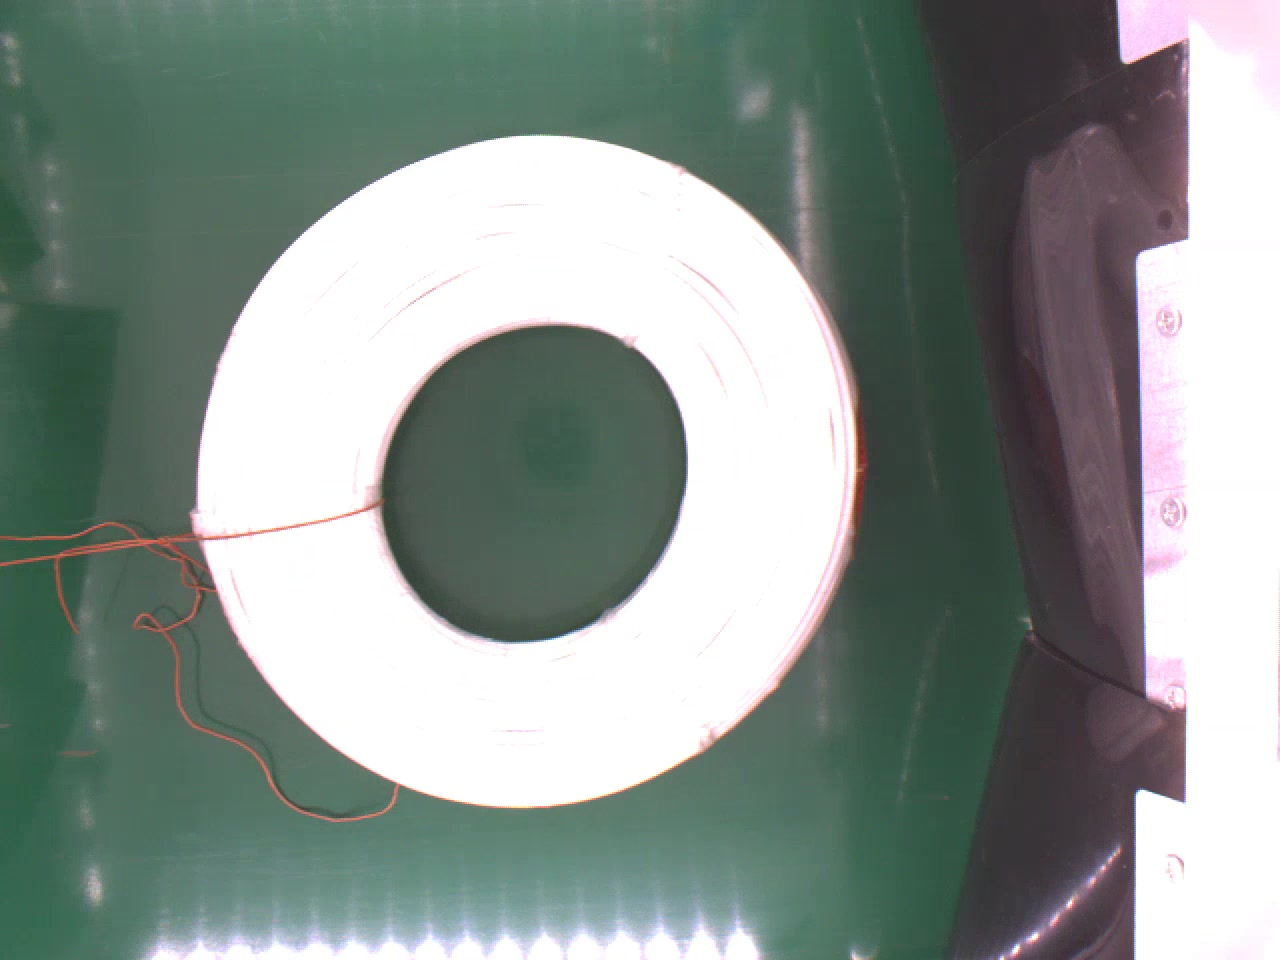white: (190, 132, 869, 814)
